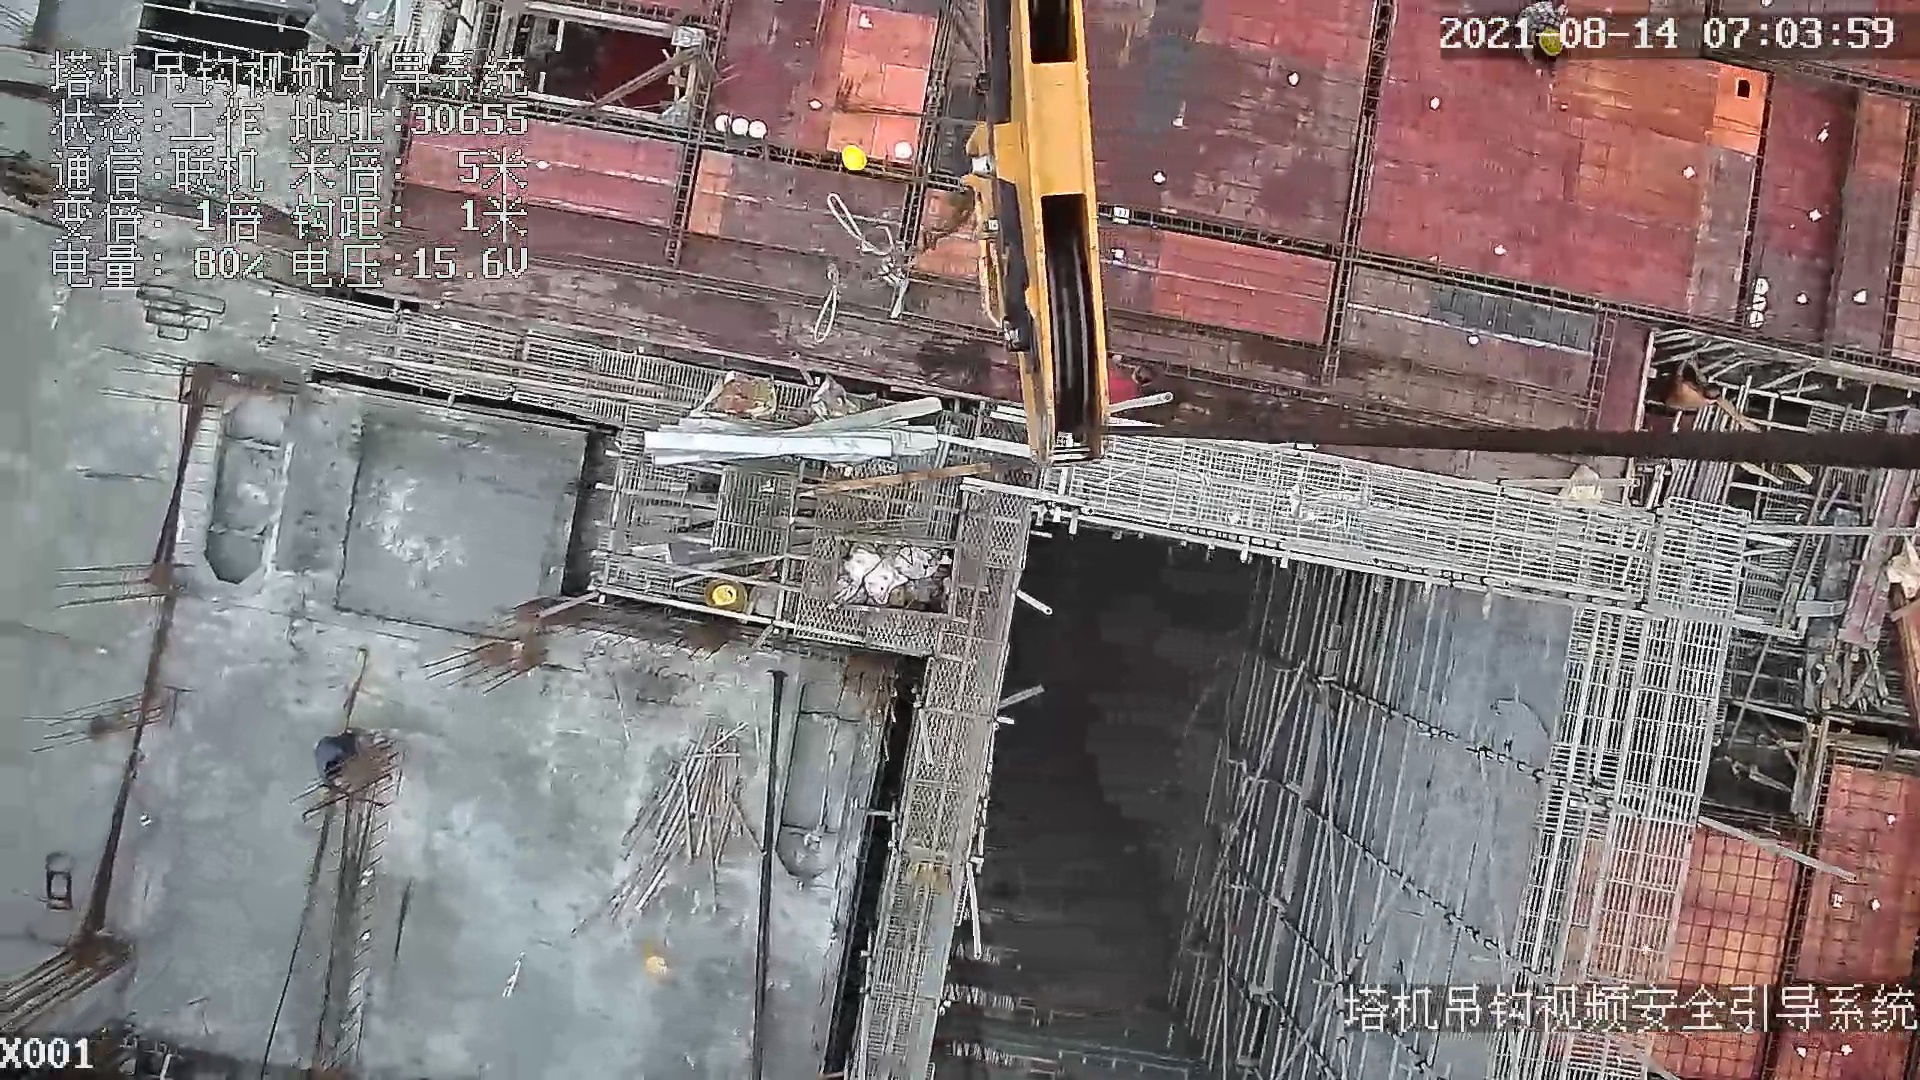helmet: (842, 145, 870, 175)
hook: (951, 1, 1112, 469)
person: (1672, 361, 1726, 413), (312, 730, 356, 784)
